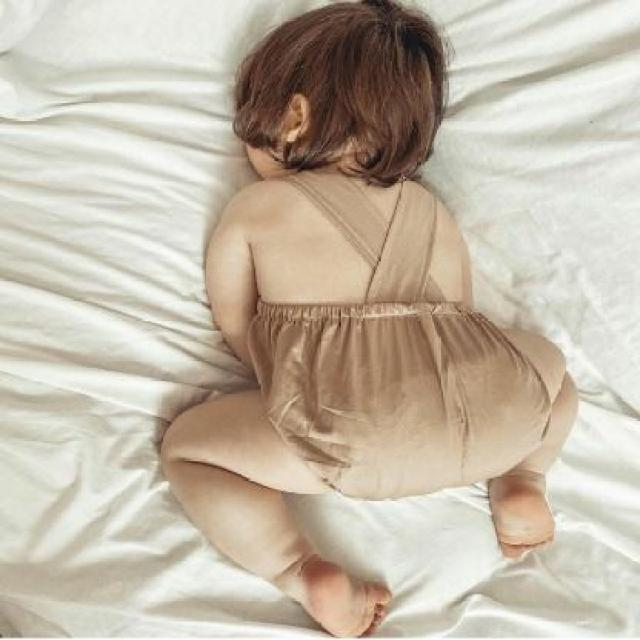baby: (160, 0, 574, 637)
